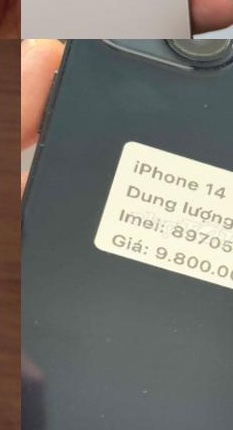scratch: (146, 39, 233, 103), (137, 384, 180, 426), (74, 421, 121, 430)
